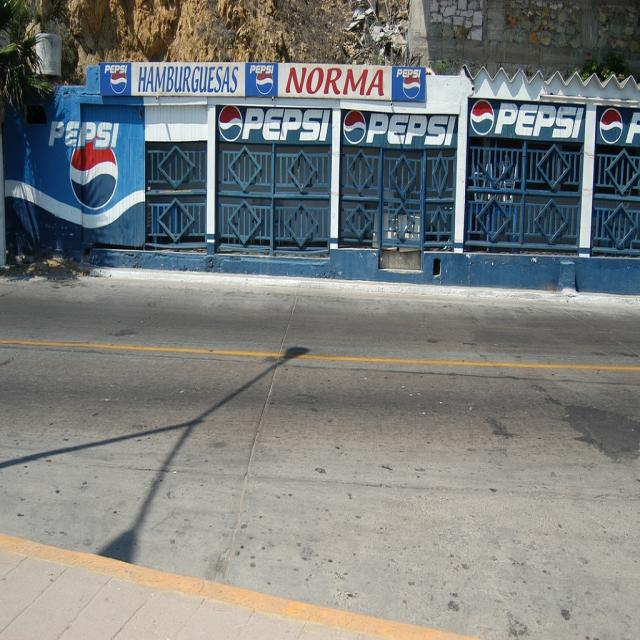pepsi: (68, 145, 121, 211), (215, 103, 246, 149), (339, 106, 370, 152), (469, 93, 499, 139), (597, 104, 627, 150), (401, 78, 427, 103), (110, 70, 131, 97), (256, 71, 276, 95)
